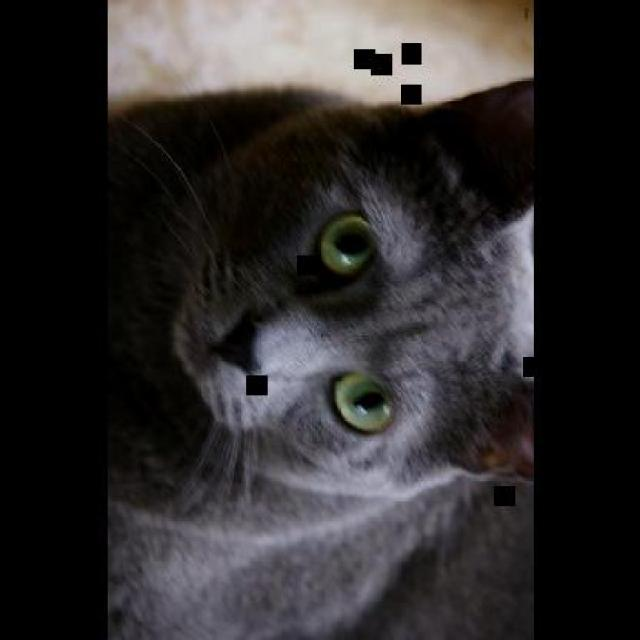unauthorized: (107, 76, 536, 638)
